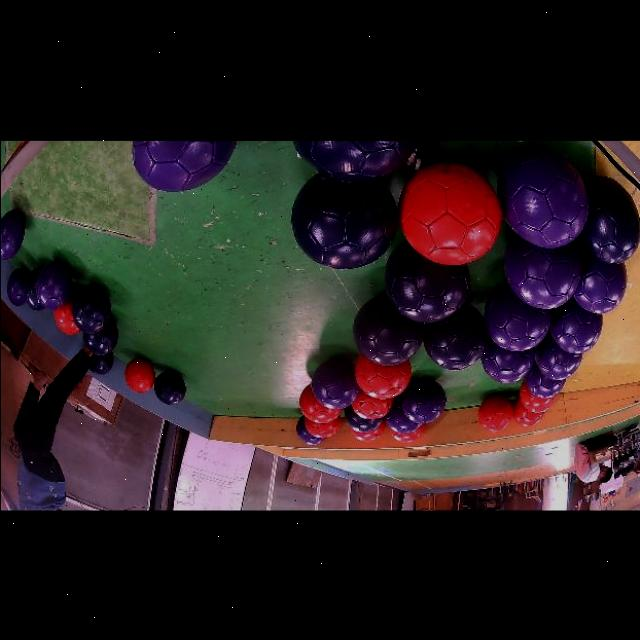B: (290, 174, 397, 269), (383, 243, 469, 323), (579, 175, 640, 264), (292, 140, 418, 183), (352, 295, 423, 365), (423, 302, 487, 370), (70, 283, 110, 333), (82, 317, 118, 355), (153, 370, 185, 405), (24, 268, 43, 311), (88, 351, 113, 374)
P: (496, 145, 588, 248), (503, 235, 580, 309), (132, 140, 235, 192), (483, 282, 550, 351), (572, 245, 626, 314), (549, 298, 602, 354), (310, 358, 360, 409), (479, 338, 534, 383), (535, 332, 581, 379), (400, 378, 445, 423), (34, 260, 72, 310), (523, 361, 564, 399), (384, 395, 420, 433), (0, 210, 24, 260), (343, 405, 383, 432), (6, 268, 28, 306), (296, 416, 324, 445)
R: (397, 162, 500, 265), (353, 355, 411, 400), (298, 385, 341, 423), (477, 395, 512, 432), (351, 390, 392, 419), (518, 381, 555, 413), (54, 291, 79, 334), (125, 358, 154, 392), (512, 396, 543, 427), (303, 417, 339, 439), (350, 421, 386, 441), (388, 424, 424, 442)
